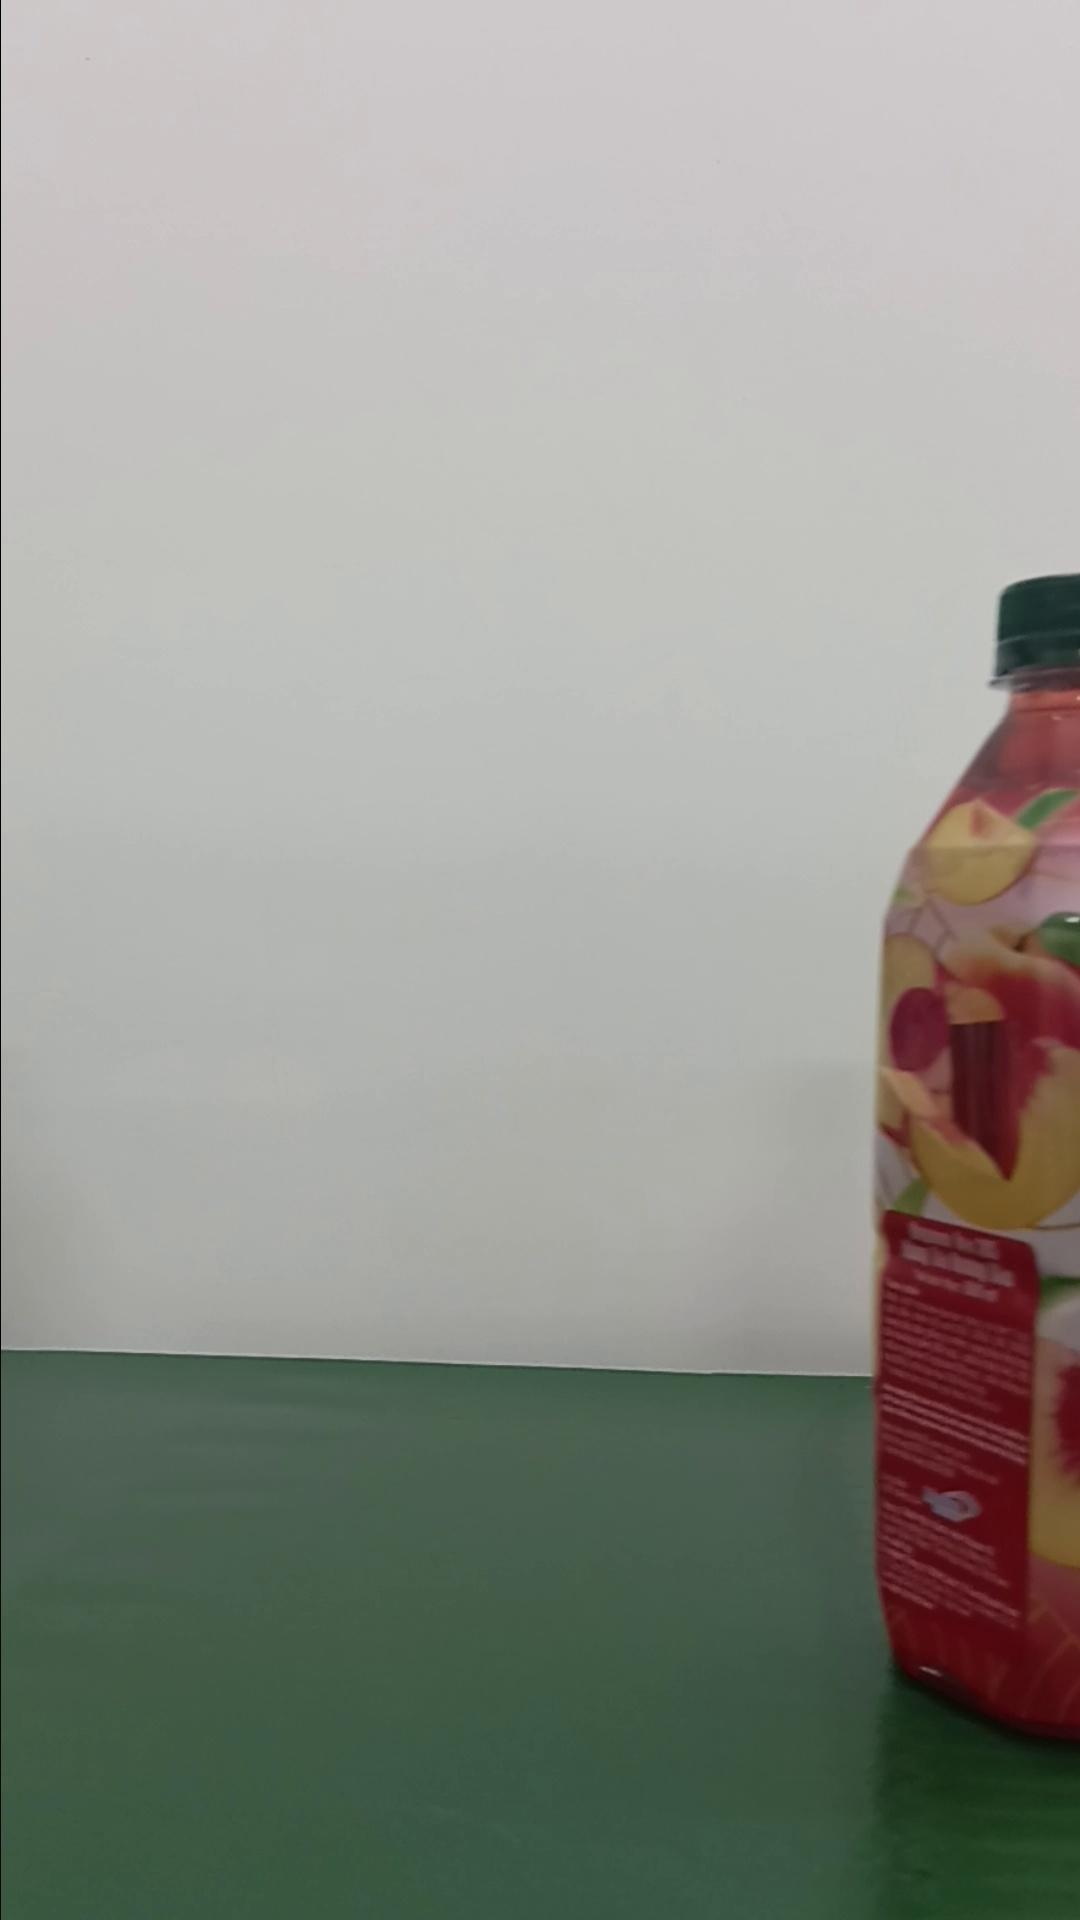loi rach va lap chai: (866, 568, 1080, 1731)
